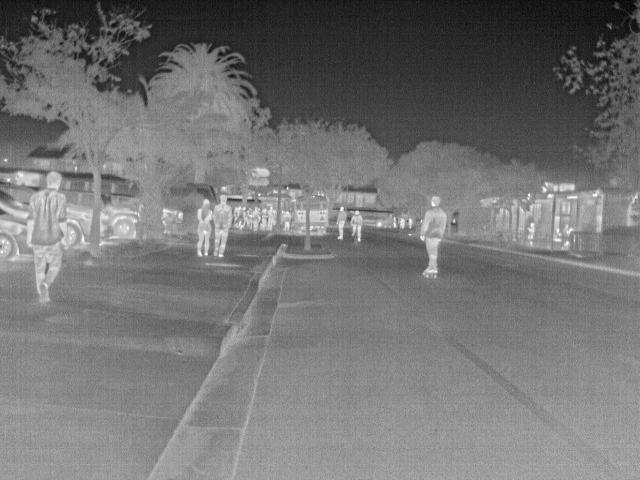car: (1, 204, 35, 264), (63, 204, 94, 252), (104, 204, 141, 237), (163, 204, 186, 232)
person: (24, 169, 70, 302), (415, 194, 446, 276), (207, 192, 234, 262), (194, 199, 213, 257), (347, 207, 365, 243), (335, 204, 349, 242), (265, 204, 277, 232), (248, 206, 260, 232), (258, 206, 270, 231), (280, 209, 293, 231), (524, 220, 536, 243), (552, 226, 565, 243), (398, 214, 407, 230), (406, 216, 415, 230)
